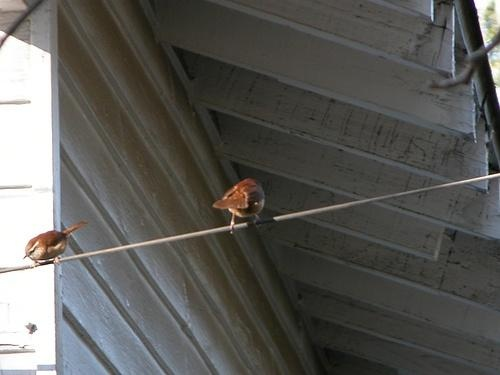bird: (213, 177, 267, 232), (22, 220, 87, 265)
